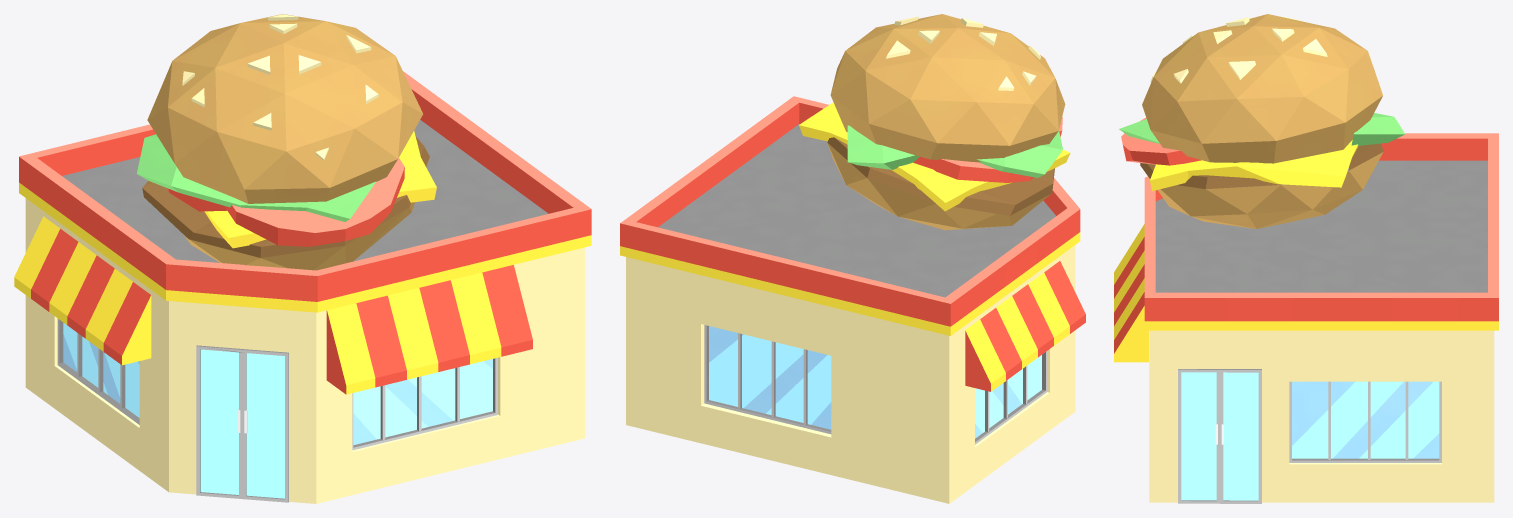
Rendered from tile_for_home_1x1.006 (11)hamburer.glb.
The picture shows the model from 3 angles, left to right: view 1: azimuth 30°, elevation 25°; view 2: azimuth 150°, elevation 25°; view 3: azimuth 270°, elevation 25°; orthographic projection. The views are drawn at different scales.
Visible parts, largest first — view 1: snack.002; view 2: snack.002; view 3: snack.002.
Boxes of the visible parts, bbox=[...] form: snack.002: bbox=[14, 14, 591, 503]; snack.002: bbox=[620, 14, 1085, 503]; snack.002: bbox=[1114, 14, 1498, 503].
Bounding box in the file's own units: 6.09 × 6.02 × 5.65.
1 material, 1 textured.
